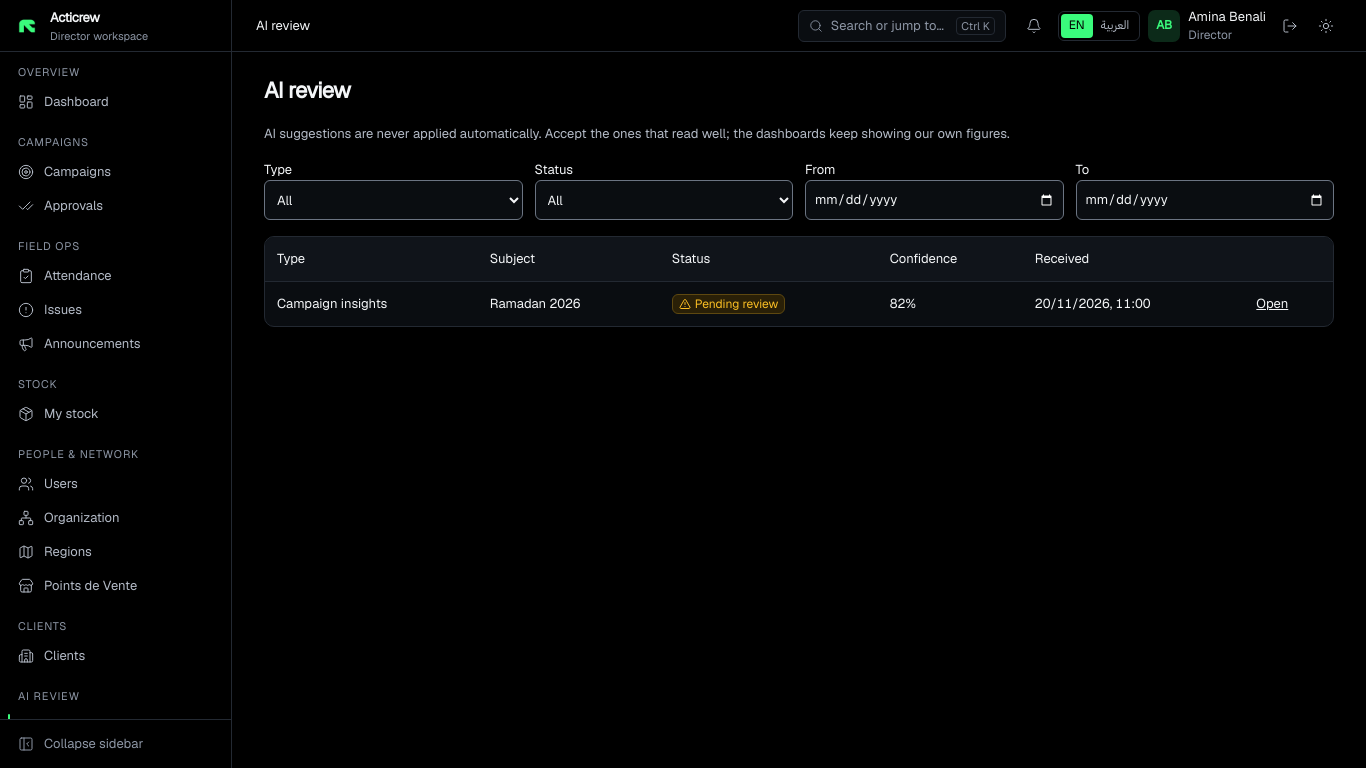
lists suggestions and shows the output beside our own KPIs with names resolved
Expected: the heading "AI review" is shown, [264,76,350,104]
Expected: the text "Ramadan 2026" is shown, [478,282,660,326]
Click the link "Open" at (1272, 304), box [1256,295,1288,312]
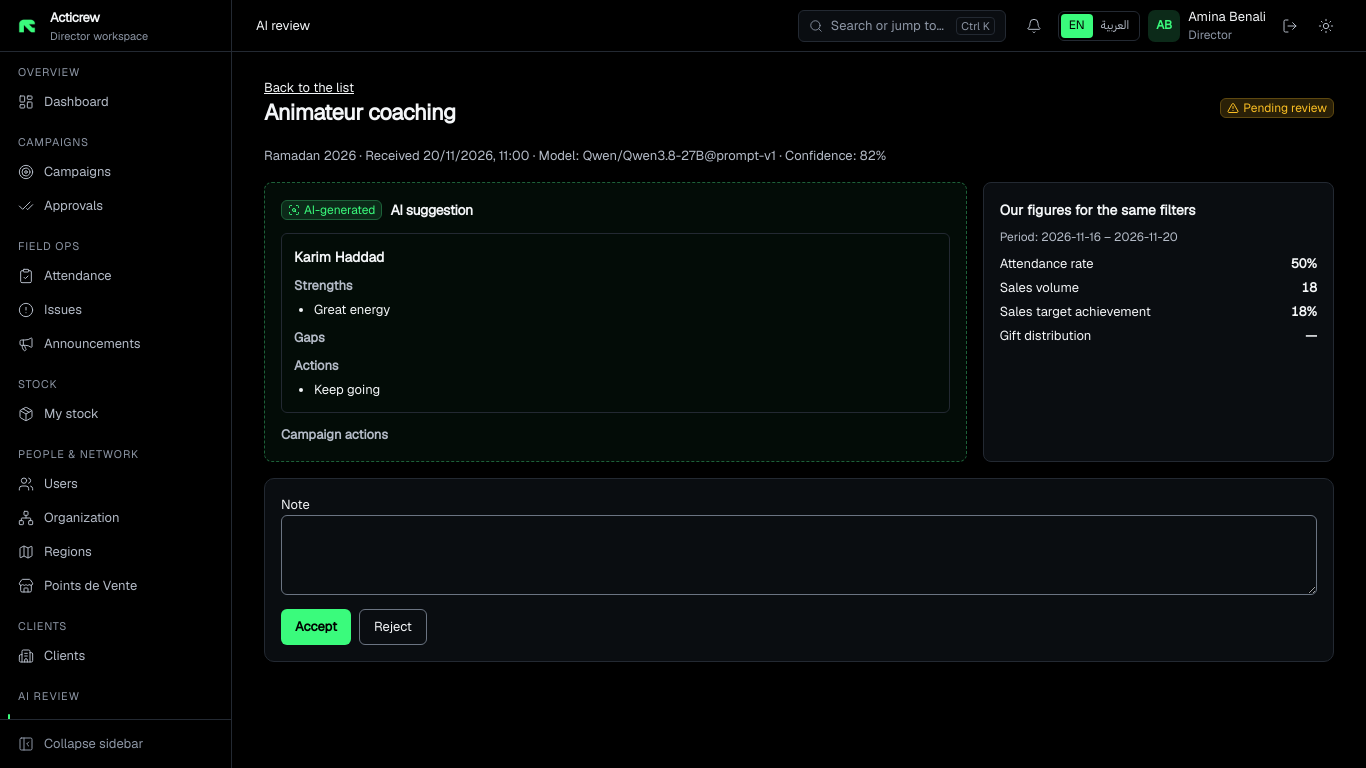
Expected: the heading "Karim Haddad" is shown, [294,248,384,266]
Expected: the heading "Our figures for the same filters" is shown, [1000,201,1196,219]
Expected: the text "Qwen/Qwen3.8-27B@prompt-v1" is shown, [583,147,776,164]
